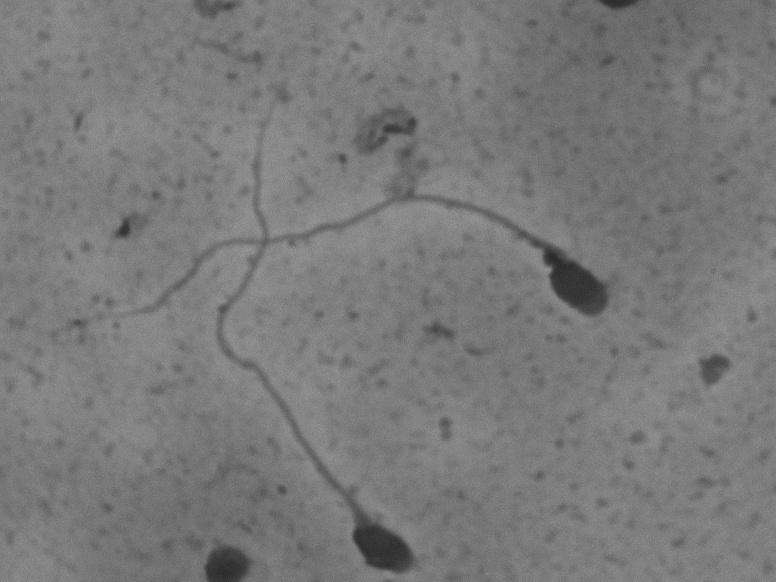Abnormal: (14, 133, 667, 363), (195, 87, 430, 579)
